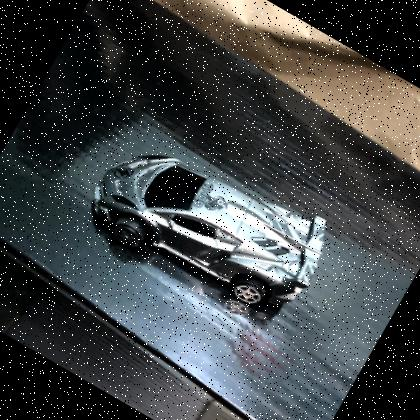Car: (91, 156, 324, 314)
